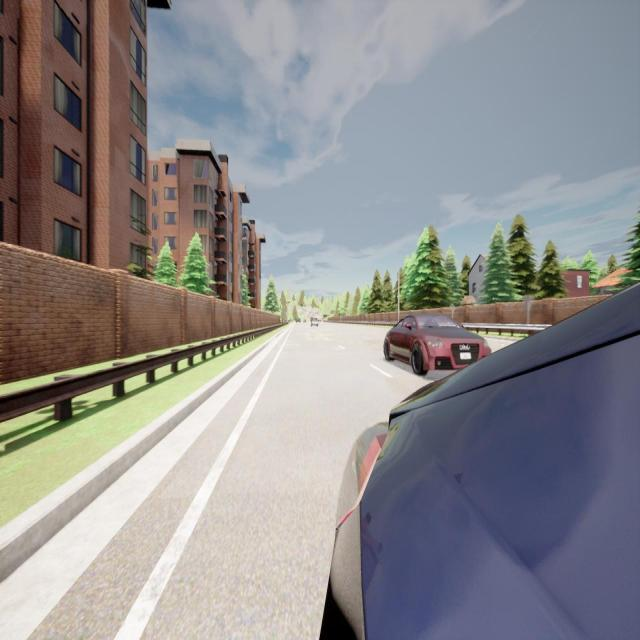Traffic_Signs: (524, 295, 532, 311), (449, 304, 456, 312)
Vehicle: (322, 284, 640, 638), (384, 314, 490, 372), (310, 318, 319, 328), (296, 318, 301, 323)
